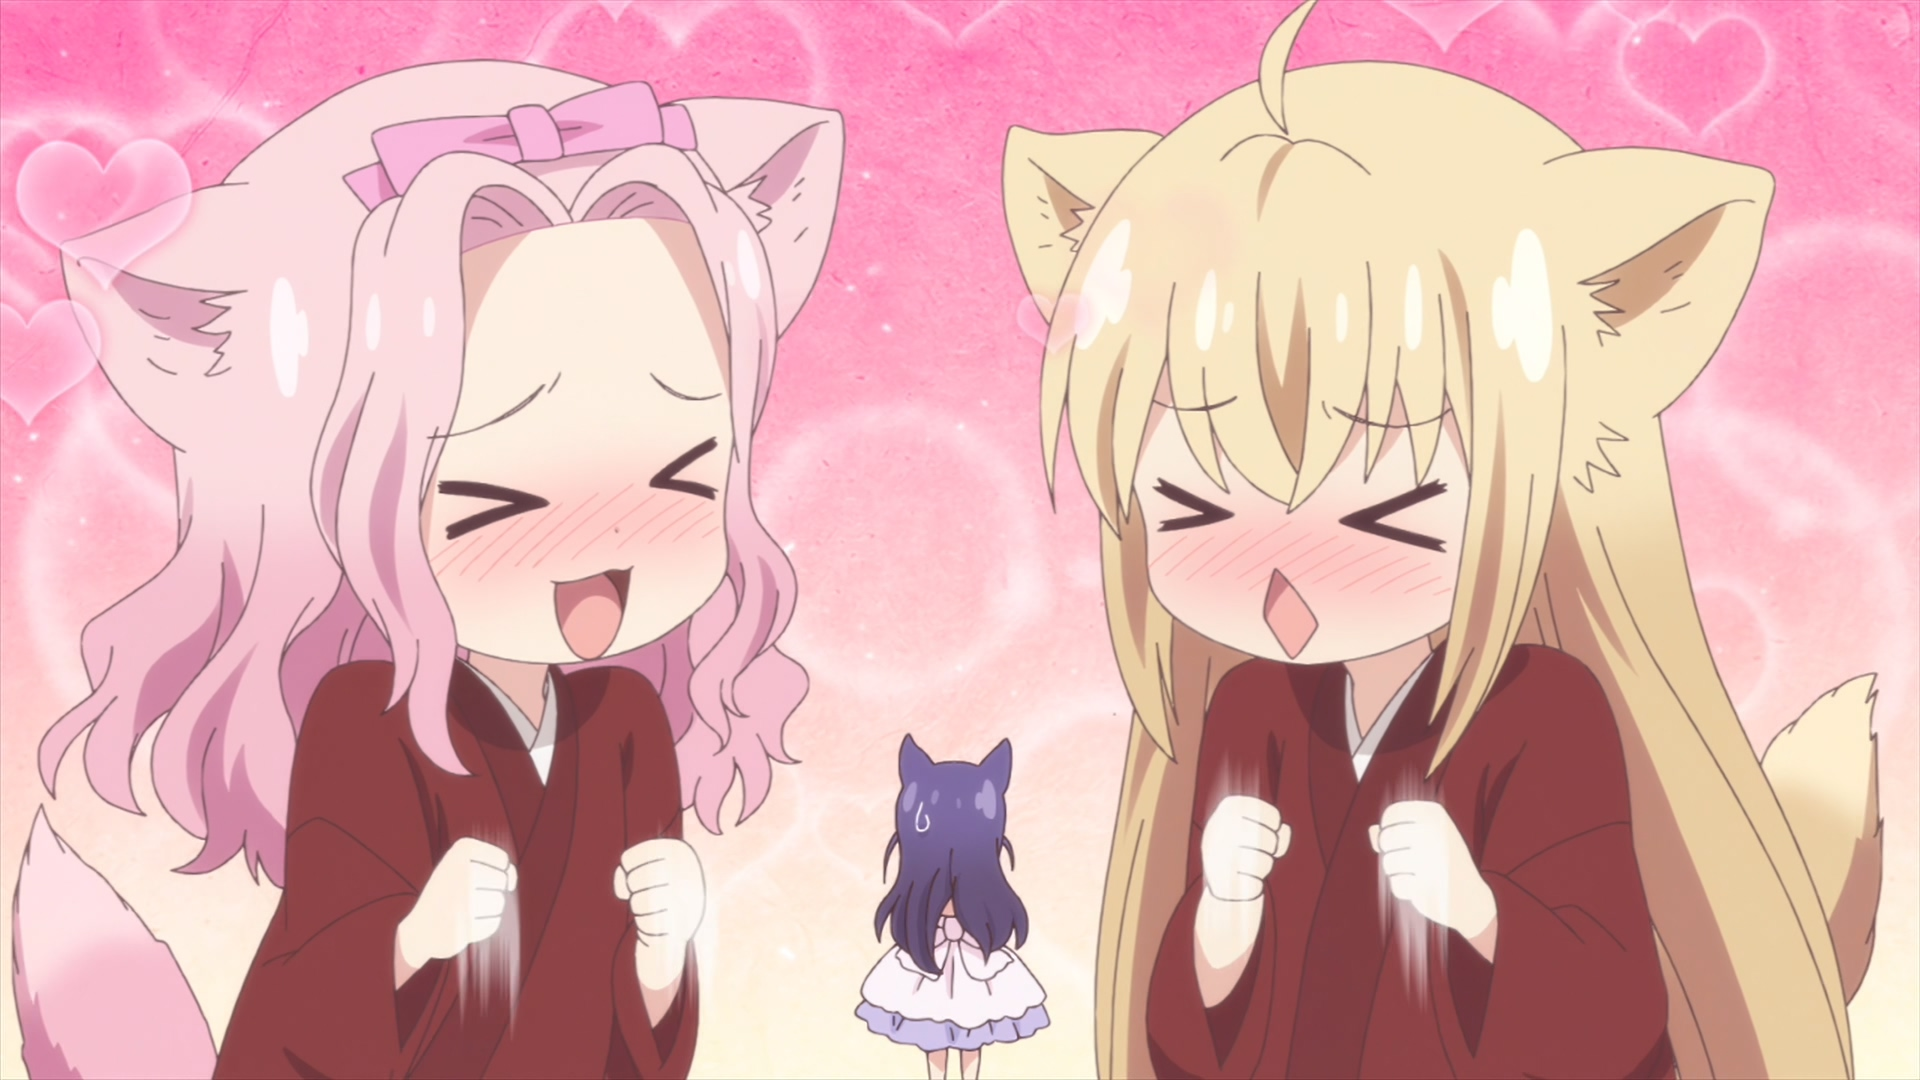柚: (1001, 1, 1886, 1080)
皋: (856, 732, 1054, 1080)
莲: (12, 61, 844, 1080)
